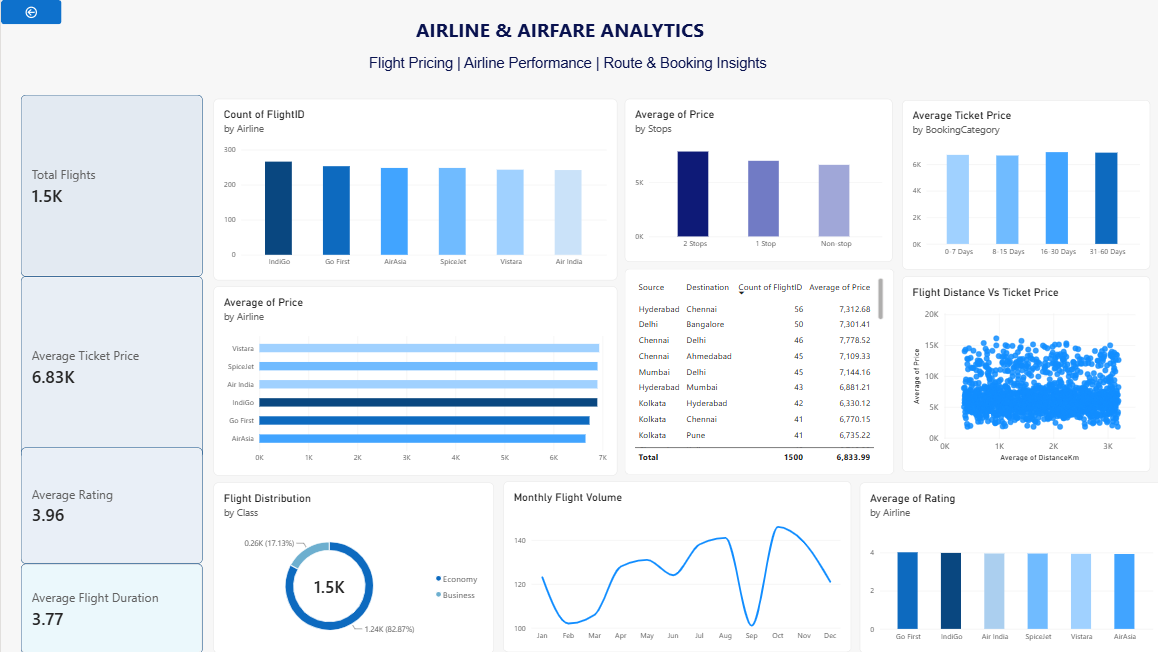

This screenshot's page, from the dashboard's own definition file:
{"tool":"powerbi","page":{"name":"Page 1","canvas":[1920,1080],"ordinal":0},"visuals":[{"type":"textbox","box":[685.4,26.8,494,45.3],"z":0},{"type":"textbox","box":[603.1,90.6,666.9,37],"z":1000},{"type":"cardVisual","fields":{"Data":["Count(cleaned_airline_airfare.FlightID)"]},"box":[32.9,156.4,300,300],"z":2000},{"type":"cardVisual","fields":{"Data":["Avg(cleaned_airline_airfare.Price)"]},"box":[32.9,456.9,300,300],"z":3000},{"type":"cardVisual","fields":{"Data":["Avg(cleaned_airline_airfare.Rating)"]},"box":[32.9,738.9,300,192],"z":4000},{"type":"cardVisual","fields":{"Data":["Avg(cleaned_airline_airfare.DurationHours)"]},"box":[32.9,930.4,300,150],"z":5000},{"type":"clusteredColumnChart","fields":{"Category":["cleaned_airline_airfare.Airline"],"Y":["CountNonNull(cleaned_airline_airfare.FlightID)"]},"box":[352,162.6,667,300],"z":6000},{"type":"clusteredBarChart","fields":{"Category":["cleaned_airline_airfare.Airline"],"Y":["Avg(cleaned_airline_airfare.Price)"]},"box":[352,473.4,666.9,312.9],"z":7000},{"type":"donutChart","fields":{"Category":["cleaned_airline_airfare.Class"],"Y":["CountNonNull(cleaned_airline_airfare.FlightID)"]},"box":[352,796.6,463.1,284],"z":8000},{"type":"clusteredColumnChart","fields":{"Category":["cleaned_airline_airfare.Stops"],"Y":["Avg(cleaned_airline_airfare.Price)"]},"box":[1031.2,162.6,442.5,269.6],"z":9000},{"type":"tableEx","fields":{"Values":["cleaned_airline_airfare.Source","cleaned_airline_airfare.Destination","cleaned_airline_airfare.FlightID","Avg(cleaned_airline_airfare.Price)"]},"box":[1031.2,444.6,444.6,339.6],"z":10000},{"type":"actionButton","box":[0,0,100,40],"z":11000},{"type":"lineChart","title":"Monthly Flight Volume","fields":{"Category":["cleaned_airline_airfare.Month"],"Y":["CountNonNull(cleaned_airline_airfare.FlightID)"]},"box":[829.5,795.9,574.3,284],"z":12000},{"type":"clusteredColumnChart","fields":{"Category":["cleaned_airline_airfare.BookingCategory"],"Y":["Avg(cleaned_airline_airfare.Price)"]},"box":[1488.2,164.7,409.6,279.9],"z":13000},{"type":"scatterChart","title":"Flight Distance Vs Ticket Price","fields":{"Category":["cleaned_airline_airfare.FlightID"],"X":["Avg(cleaned_airline_airfare.DistanceKm)"],"Y":["Avg(cleaned_airline_airfare.Price)"]},"box":[1488.2,456.9,409.6,323.2],"z":14000},{"type":"columnChart","fields":{"Category":["cleaned_airline_airfare.Airline"],"Y":["Avg(cleaned_airline_airfare.Rating)"]},"box":[1418.2,796.6,502.2,284],"z":15000}]}

Visuals, with their boxes in screenshot pixels (x1, y1, x2, y2), scaled from the page's 1920x1080 canvas onto the 1158x652 screenshot:
textbox: 413, 16, 711, 44
textbox: 364, 55, 766, 77
cardVisual - Count(cleaned_airline_airfare.FlightID): 20, 94, 201, 276
cardVisual - Avg(cleaned_airline_airfare.Price): 20, 276, 201, 457
cardVisual - Avg(cleaned_airline_airfare.Rating): 20, 446, 201, 562
cardVisual - Avg(cleaned_airline_airfare.DurationHours): 20, 562, 201, 651
clusteredColumnChart - cleaned_airline_airfare.Airline x CountNonNull(cleaned_airline_airfare.FlightID): 212, 98, 615, 279
clusteredBarChart - cleaned_airline_airfare.Airline x Avg(cleaned_airline_airfare.Price): 212, 286, 615, 475
donutChart - cleaned_airline_airfare.Class x CountNonNull(cleaned_airline_airfare.FlightID): 212, 481, 492, 651
clusteredColumnChart - cleaned_airline_airfare.Stops x Avg(cleaned_airline_airfare.Price): 622, 98, 889, 261
tableEx - cleaned_airline_airfare.Source x cleaned_airline_airfare.Destination: 622, 268, 890, 473
actionButton: 0, 0, 60, 24
"Monthly Flight Volume" lineChart: 500, 480, 847, 651
clusteredColumnChart - cleaned_airline_airfare.BookingCategory x Avg(cleaned_airline_airfare.Price): 898, 99, 1145, 268
"Flight Distance Vs Ticket Price" scatterChart: 898, 276, 1145, 471
columnChart - cleaned_airline_airfare.Airline x Avg(cleaned_airline_airfare.Rating): 855, 481, 1157, 651
